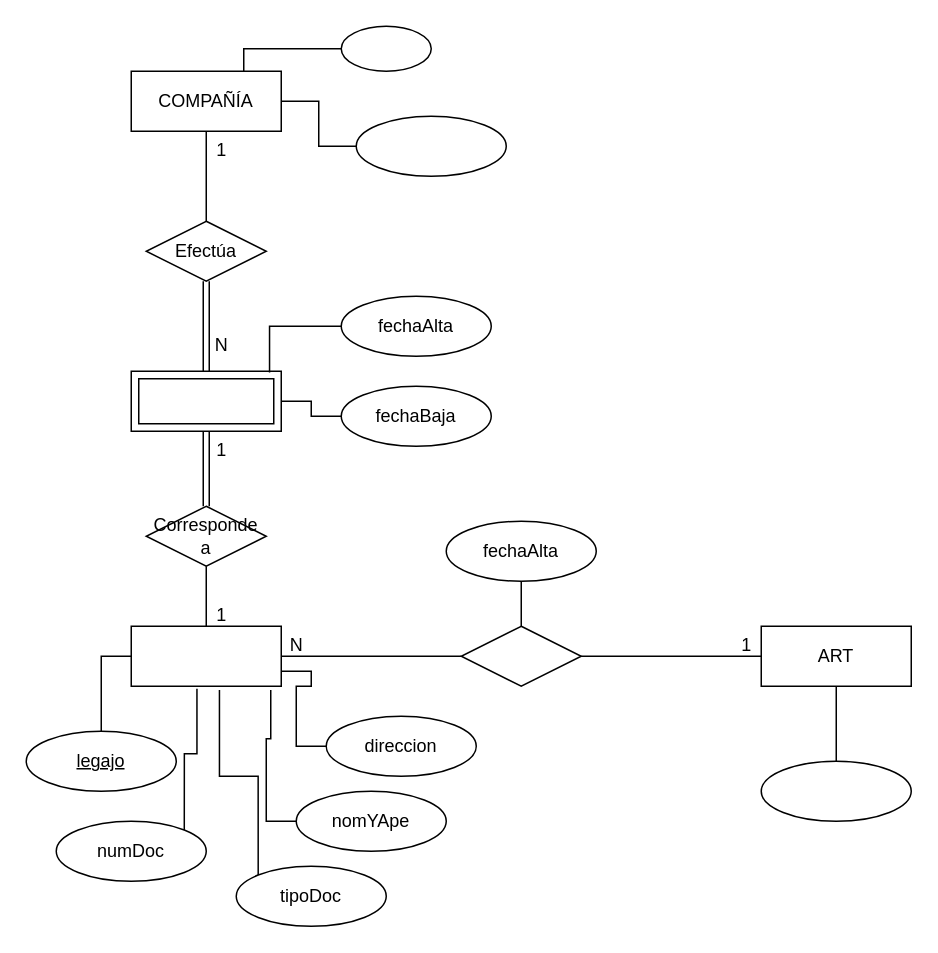
Image size: 938x953. Some labels were removed from this diagram. Each missing label, with the centre of its shape:
"codigo" goes at [835,790].
"CONTRATO" goes at [205,400].
"id" goes at [385,48].
"Nombre" goes at [430,145].
"Tiene" goes at [520,655].
"TRABAJADOR" goes at [205,655].
